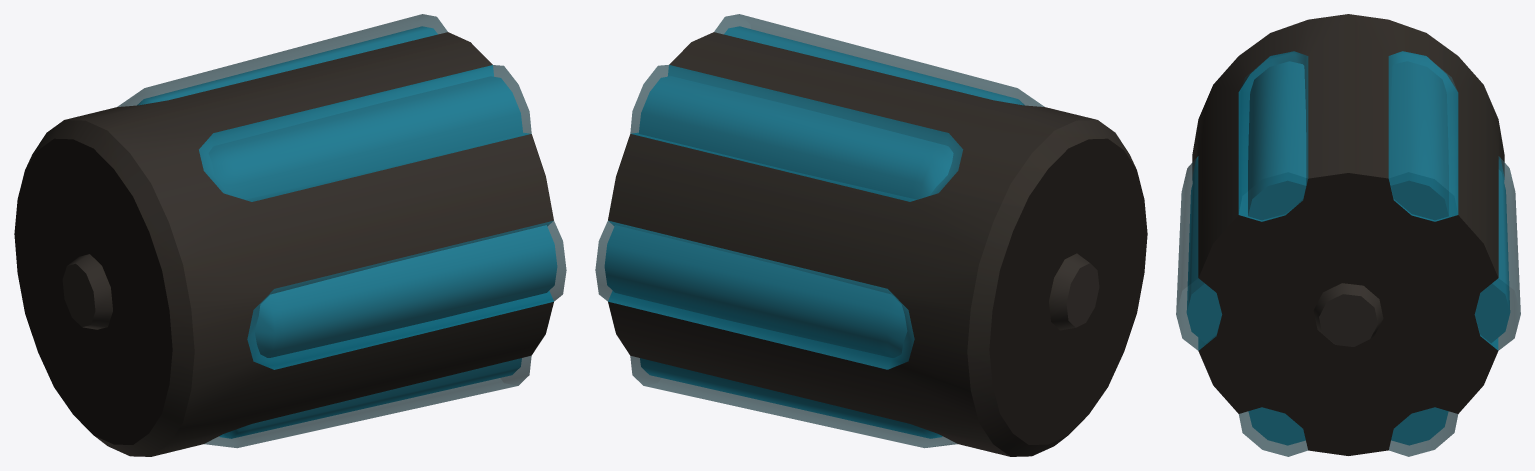
The model's file is Pistol5_Drum.fbx.
3 views of the same model, side by side, from view 1: azimuth 30°, elevation 25°; view 2: azimuth 150°, elevation 25°; view 3: azimuth 270°, elevation 25° (orthographic). The views are drawn at different scales.
Parts seen in each view (by area): view 1: Pistol5_Drum; view 2: Pistol5_Drum; view 3: Pistol5_Drum.
Boxes of the visible parts, x1,y1,x2,y2 form: Pistol5_Drum: (14, 14, 566, 456); Pistol5_Drum: (595, 14, 1147, 456); Pistol5_Drum: (1176, 14, 1520, 456).
Bounding box in the file's own units: 6.97 × 5.22 × 5.72.
